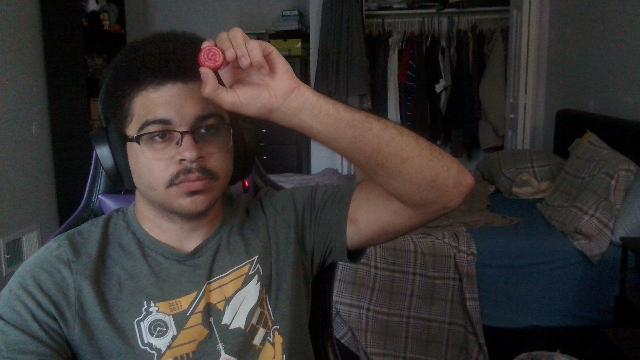cap: (198, 46, 226, 70)
